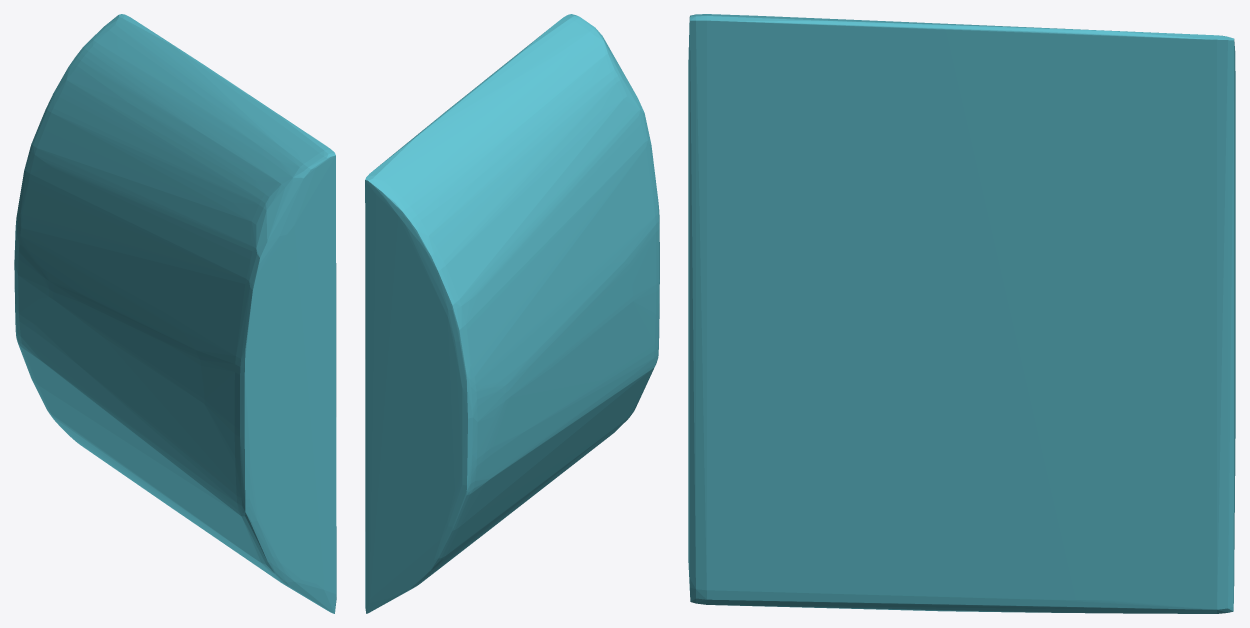
Rendered from left-shoulder-yaw-0_part_2.obj.
The picture shows the model from 3 angles, left to right: view 1: azimuth 30°, elevation 25°; view 2: azimuth 150°, elevation 25°; view 3: azimuth 270°, elevation 25°; orthographic projection. The views are drawn at different scales.
Size of the model in its own units: 0.0174 by 0.0679 by 0.0567.
